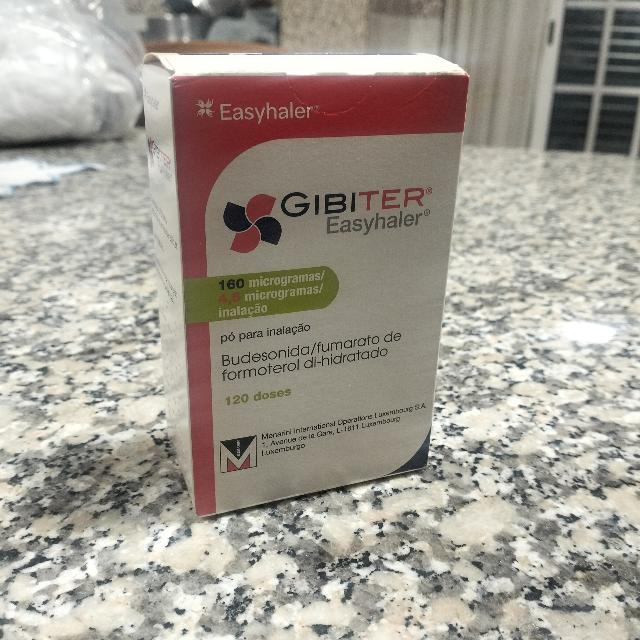caixa: (138, 49, 472, 521)
